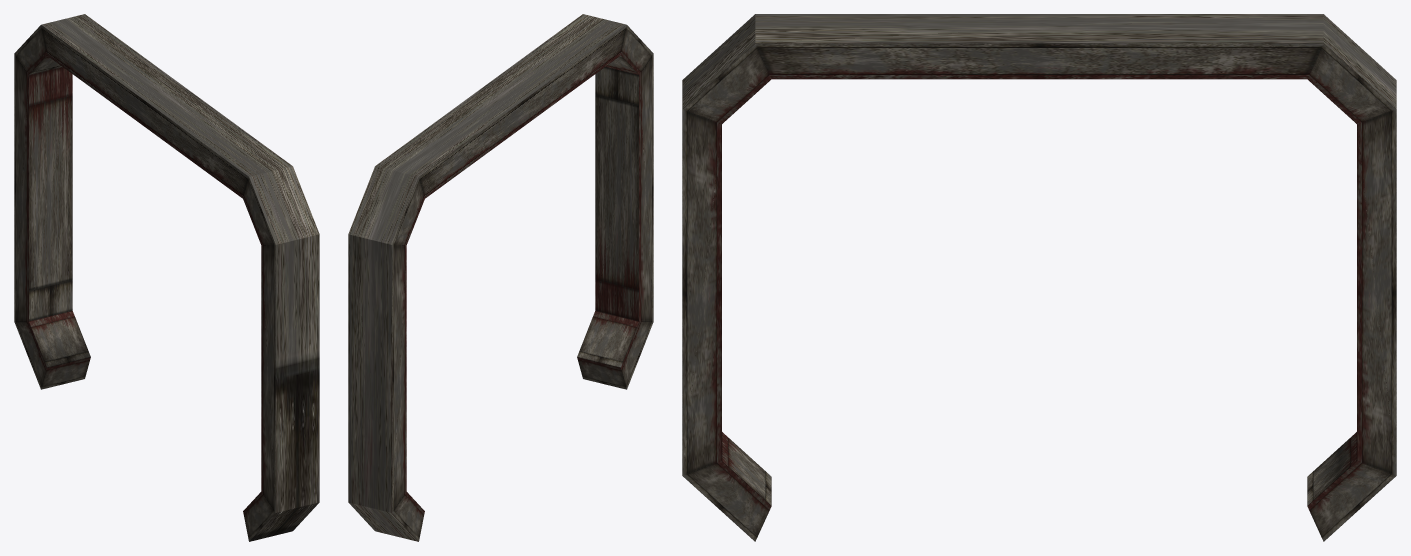
The model's file is MetalTrim.fbx.
The picture shows the model from 3 angles, left to right: view 1: azimuth 30°, elevation 25°; view 2: azimuth 150°, elevation 25°; view 3: azimuth 270°, elevation 25°; orthographic projection. The views are drawn at different scales.
Visible parts, largest first — view 1: pasted__pasted__pCube1; view 2: pasted__pasted__pCube1; view 3: pasted__pasted__pCube1.
Boxes of the visible parts, box(x1,y1,x2,y2) form: pasted__pasted__pCube1: box(14, 14, 319, 541); pasted__pasted__pCube1: box(348, 14, 653, 541); pasted__pasted__pCube1: box(682, 14, 1396, 541).
Bounding box in the file's own units: 1.17 × 9.27 × 12.04.
Materials: 1 (1 with a texture image).
